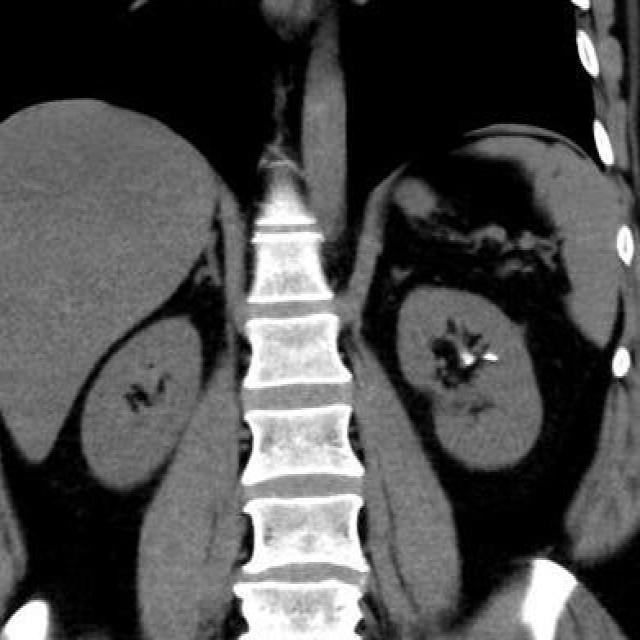Tas_Var: (459, 352, 477, 370), (483, 353, 499, 365)
